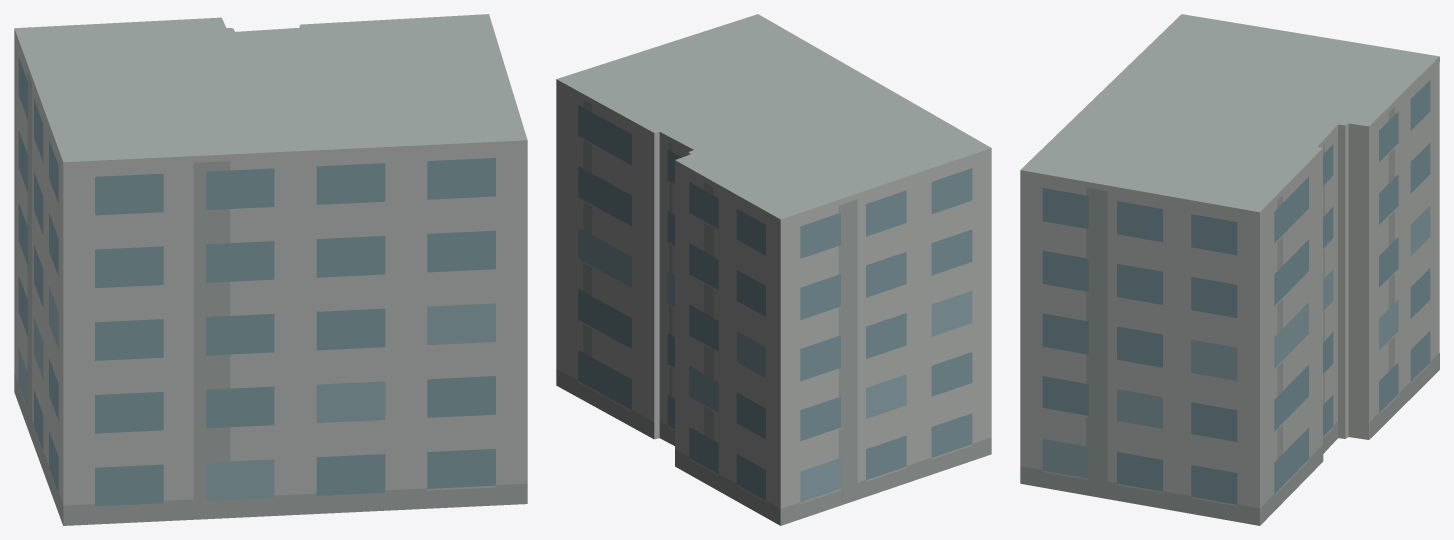
The model's file is survey-upis-33037051.glb.
The picture shows the model from 3 angles, left to right: view 1: azimuth 30°, elevation 25°; view 2: azimuth 150°, elevation 25°; view 3: azimuth 270°, elevation 25°; orthographic projection. The views are drawn at different scales.
Visible parts, largest first — view 1: survey-upis-33037051.tmp; view 2: survey-upis-33037051.tmp; view 3: survey-upis-33037051.tmp.
Part boxes in pixels (<box>): survey-upis-33037051.tmp: <box>14,14,527,525</box>; survey-upis-33037051.tmp: <box>556,14,991,525</box>; survey-upis-33037051.tmp: <box>1020,14,1439,525</box>.
Size of the model in its own units: 17.77 by 13.1 by 15.89.
